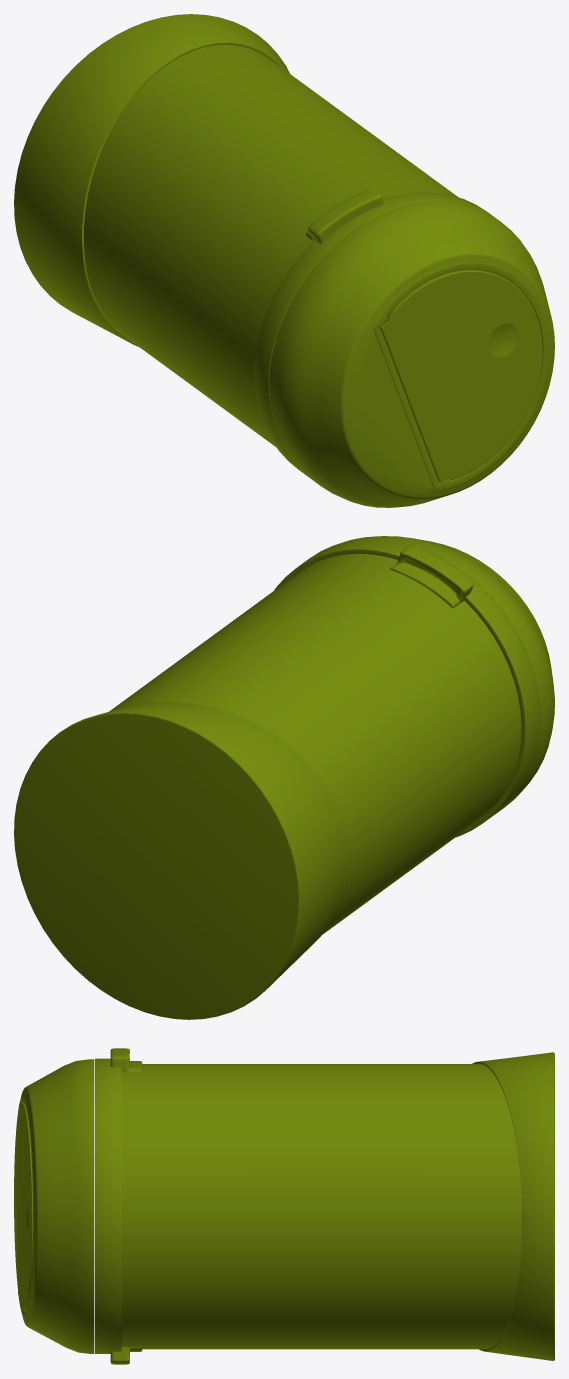
The model's file is Touch bin_obj.obj.
3 renders of one model, top to bottom at view 1: azimuth 30°, elevation 25°; view 2: azimuth 150°, elevation 25°; view 3: azimuth 270°, elevation 25°, orthographic. The views are drawn at different scales.
Visible parts, largest first — view 1: touch_bin; view 2: touch_bin; view 3: touch_bin.
Boxes of the visible parts, <box> form: touch_bin: <box>14,14,554,507</box>; touch_bin: <box>14,536,554,1019</box>; touch_bin: <box>14,1048,554,1364</box>.
Bounding box in the file's own units: 17.9 × 18.17 × 31.35.
